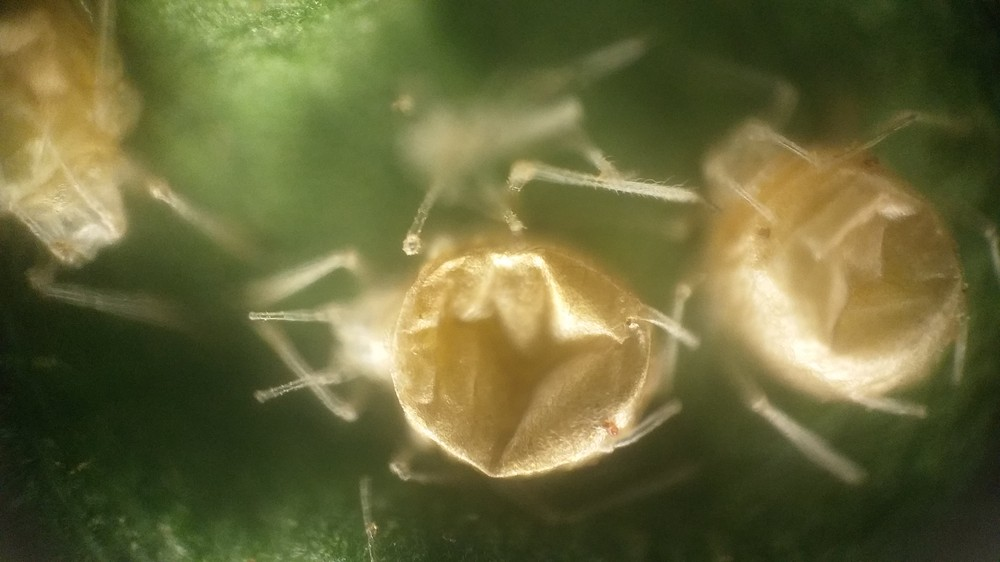Pulgon: (238, 161, 705, 521), (667, 92, 1000, 483), (1, 1, 273, 304)
